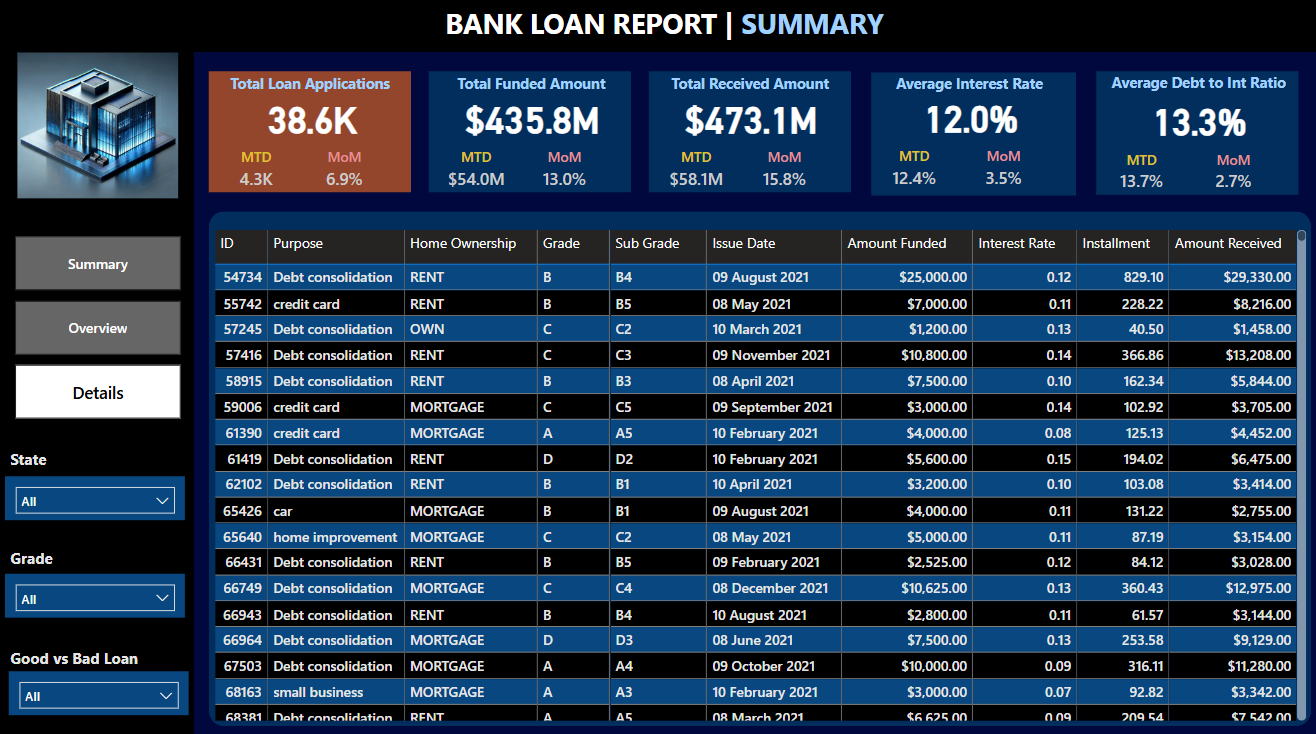

What the dashboard file says about the page in this screenshot:
{"tool":"powerbi","page":{"name":"Details","canvas":[1280,720],"ordinal":2},"visuals":[{"type":"shape","box":[0,0,192,720.2],"z":0},{"type":"shape","box":[206.3,73.6,195.4,117],"z":0,"group":"g1"},{"type":"shape","box":[418.5,73.6,195.4,117],"z":0,"group":"g2"},{"type":"shape","box":[630.9,73.6,195.4,117],"z":0,"group":"g3"},{"type":"shape","box":[1063.2,73.6,195.4,119.4],"z":0,"group":"g5"},{"type":"shape","box":[846,74.2,197.7,118.9],"z":0,"group":"g4"},{"type":"shape","box":[0,0,1280,55],"z":1000},{"type":"card","fields":{"Values":["Bank_Loan_DB.Average Interest Rate"]},"box":[846.8,92.6,190.4,47.8],"z":1000,"group":"g4"},{"type":"card","fields":{"Values":["Bank_Loan_DB.Total Loan Applications"]},"box":[212.1,94.6,188.2,47.1],"z":1000,"group":"g1"},{"type":"card","fields":{"Values":["Bank_Loan_DB.Total Funded Amount"]},"box":[424.3,94.6,188.2,47.1],"z":1000,"group":"g2"},{"type":"card","fields":{"Values":["Bank_Loan_DB.Total Received Amount"]},"box":[636.6,94.6,188.2,47.1],"z":1000,"group":"g3"},{"type":"card","fields":{"Values":["Bank_Loan_DB.Average DTI"]},"box":[1064.4,97,196.9,47.1],"z":1000,"group":"g5"},{"type":"textbox","box":[1053.5,70.5,217.2,32.6],"z":2000,"group":"g5"},{"type":"textbox","box":[835.3,71,211.1,31.4],"z":2000,"group":"g4"},{"type":"textbox","box":[199,71.7,209.9,29],"z":2000,"group":"g1"},{"type":"textbox","box":[413.3,71.7,207.5,29],"z":2000,"group":"g2"},{"type":"textbox","box":[624.1,71.7,209.9,29],"z":2000,"group":"g3"},{"type":"shape","box":[206.3,208.7,1064.1,497.1],"z":2000},{"type":"textbox","box":[422.3,3.6,447.6,47.1],"z":3000},{"type":"card","title":"MTD","fields":{"Values":["Bank_Loan_DB.MTD Average Interest Rate"]},"box":[853.2,146,68.3,44.1],"z":3000,"group":"g4"},{"type":"card","title":"MTD","fields":{"Values":["Bank_Loan_DB.MTD Loan Applications"]},"box":[218.4,147.2,67.6,43.4],"z":3000,"group":"g1"},{"type":"card","title":"MTD","fields":{"Values":["Bank_Loan_DB.MTD Funded Amount"]},"box":[430.6,147.2,67.6,43.4],"z":3000,"group":"g2"},{"type":"card","title":"MTD","fields":{"Values":["Bank_Loan_DB.MTD Received Amount"]},"box":[643,147.2,67.6,43.4],"z":3000,"group":"g3"},{"type":"card","title":"MTD","fields":{"Values":["Bank_Loan_DB.MTD DTI"]},"box":[1071,149.6,70.7,43.4],"z":3000,"group":"g5"},{"type":"card","title":"MoM","fields":{"Values":["Bank_Loan_DB.Mom Average Interest Rate"]},"box":[939.8,146,67.1,44.1],"z":4000,"group":"g4"},{"type":"card","title":"MoM","fields":{"Values":["Bank_Loan_DB.Mom Loan Application"]},"box":[304,147.2,66.4,43.4],"z":4000,"group":"g1"},{"type":"card","title":"MoM","fields":{"Values":["Bank_Loan_DB.Mom Funded Amount"]},"box":[516.3,147.2,66.4,43.4],"z":4000,"group":"g2"},{"type":"card","title":"MoM","fields":{"Values":["Bank_Loan_DB.Mom Received Amount"]},"box":[728.6,147.2,66.4,43.4],"z":4000,"group":"g3"},{"type":"card","title":"MoM","fields":{"Values":["Bank_Loan_DB.Mom DTI Ratio"]},"box":[1160.6,149.6,69.4,43.4],"z":4000,"group":"g5"},{"type":"slicer","fields":{"Values":["Bank_Loan_DB.address_state"]},"box":[9.7,464,173.7,42.2],"z":9000},{"type":"textbox","box":[9.7,433.1,53.1,36.2],"z":10000},{"type":"slicer","fields":{"Values":["Bank_Loan_DB.grade"]},"box":[9.7,558.3,173.7,42.2],"z":11000},{"type":"slicer","fields":{"Values":["Bank_Loan_DB.Good vs Bad Loan"]},"box":[13.3,652.7,173.7,42.2],"z":12000},{"type":"textbox","box":[9.7,624.9,173.7,36.2],"z":13000},{"type":"textbox","box":[9.7,528.4,63.9,36.2],"z":14000},{"type":"tableEx","fields":{"Values":["Bank_Loan_DB.id","Bank_Loan_DB.purpose","Bank_Loan_DB.home_ownership","Bank_Loan_DB.grade","Bank_Loan_DB.sub_grade","Bank_Loan_DB.issue_date","Bank_Loan_DB.Total Funded Amount","Sum(Bank_Loan_DB.int_rate)","Sum(Bank_Loan_DB.installment)","Bank_Loan_DB.Total Received Amount"]},"box":[206.3,222,1064.1,483.8],"z":15000},{"type":"pageNavigator","box":[19.3,232.8,160.5,178.6],"z":16000},{"type":"image","box":[0,50.7,199.1,150.8],"z":17000},{"type":"group","id":"g1","title":"Group 1","box":[199,71.7,209.9,118.9],"z":17001},{"type":"group","id":"g2","title":"Group 1","box":[413.3,71.7,207.5,118.9],"z":17002},{"type":"group","id":"g3","title":"Group 1","box":[624.1,71.7,209.9,118.9],"z":17003},{"type":"group","id":"g4","title":"Group 1","box":[835.3,71,211.1,122.1],"z":17004},{"type":"group","id":"g5","title":"Group 1","box":[1053.5,70.5,217.2,122.6],"z":17005}]}

Visuals, with their boxes in screenshot pixels (x1, y1, x2, y2), scaled from the page's 1280x720 canvas onto the 1316x734 screenshot:
shape: crop(0, 0, 197, 733)
shape: crop(212, 75, 413, 194)
shape: crop(430, 75, 631, 194)
shape: crop(649, 75, 850, 194)
shape: crop(1093, 75, 1294, 197)
shape: crop(870, 76, 1073, 197)
shape: crop(0, 0, 1315, 56)
card - Bank_Loan_DB.Average Interest Rate: crop(871, 94, 1066, 143)
card - Bank_Loan_DB.Total Loan Applications: crop(218, 96, 412, 144)
card - Bank_Loan_DB.Total Funded Amount: crop(436, 96, 630, 144)
card - Bank_Loan_DB.Total Received Amount: crop(655, 96, 848, 144)
card - Bank_Loan_DB.Average DTI: crop(1094, 99, 1297, 147)
textbox: crop(1083, 72, 1306, 105)
textbox: crop(859, 72, 1076, 104)
textbox: crop(205, 73, 420, 103)
textbox: crop(425, 73, 638, 103)
textbox: crop(642, 73, 857, 103)
shape: crop(212, 213, 1306, 720)
textbox: crop(434, 4, 894, 52)
"MTD" card: crop(877, 149, 947, 194)
"MTD" card: crop(225, 150, 294, 194)
"MTD" card: crop(443, 150, 512, 194)
"MTD" card: crop(661, 150, 731, 194)
"MTD" card: crop(1101, 153, 1174, 197)
"MoM" card: crop(966, 149, 1035, 194)
"MoM" card: crop(313, 150, 381, 194)
"MoM" card: crop(531, 150, 599, 194)
"MoM" card: crop(749, 150, 817, 194)
"MoM" card: crop(1193, 153, 1265, 197)
slicer - Bank_Loan_DB.address_state: crop(10, 473, 189, 516)
textbox: crop(10, 442, 65, 478)
slicer - Bank_Loan_DB.grade: crop(10, 569, 189, 612)
slicer - Bank_Loan_DB.Good vs Bad Loan: crop(14, 665, 192, 708)
textbox: crop(10, 637, 189, 674)
textbox: crop(10, 539, 76, 576)
tableEx - Bank_Loan_DB.id x Bank_Loan_DB.purpose: crop(212, 226, 1306, 720)
pageNavigator: crop(20, 237, 185, 419)
image: crop(0, 52, 205, 205)
"Group 1" group: crop(205, 73, 420, 194)
"Group 1" group: crop(425, 73, 638, 194)
"Group 1" group: crop(642, 73, 857, 194)
"Group 1" group: crop(859, 72, 1076, 197)
"Group 1" group: crop(1083, 72, 1306, 197)
